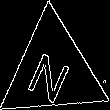N_NE: (27, 39, 79, 102)
